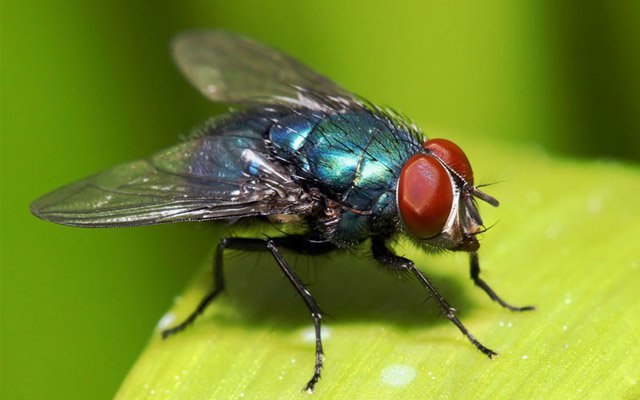fly: (16, 20, 540, 395)
